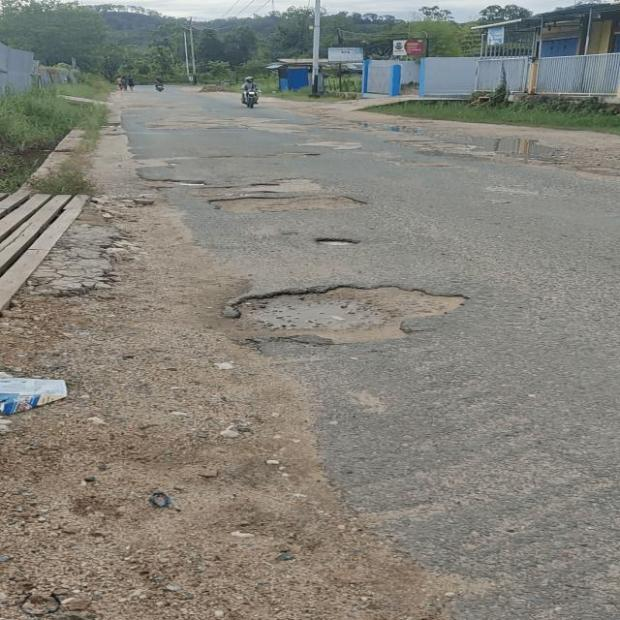lubang: (225, 285, 465, 345), (202, 180, 364, 212), (139, 169, 210, 189), (316, 238, 358, 246), (275, 152, 321, 156)
